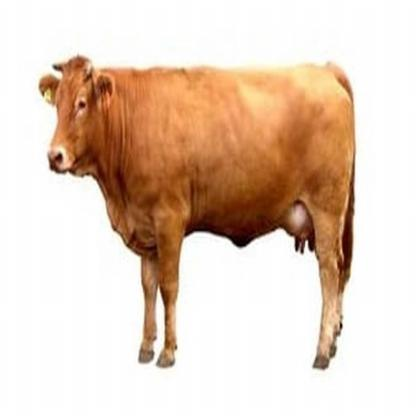cow: (38, 55, 356, 370)
